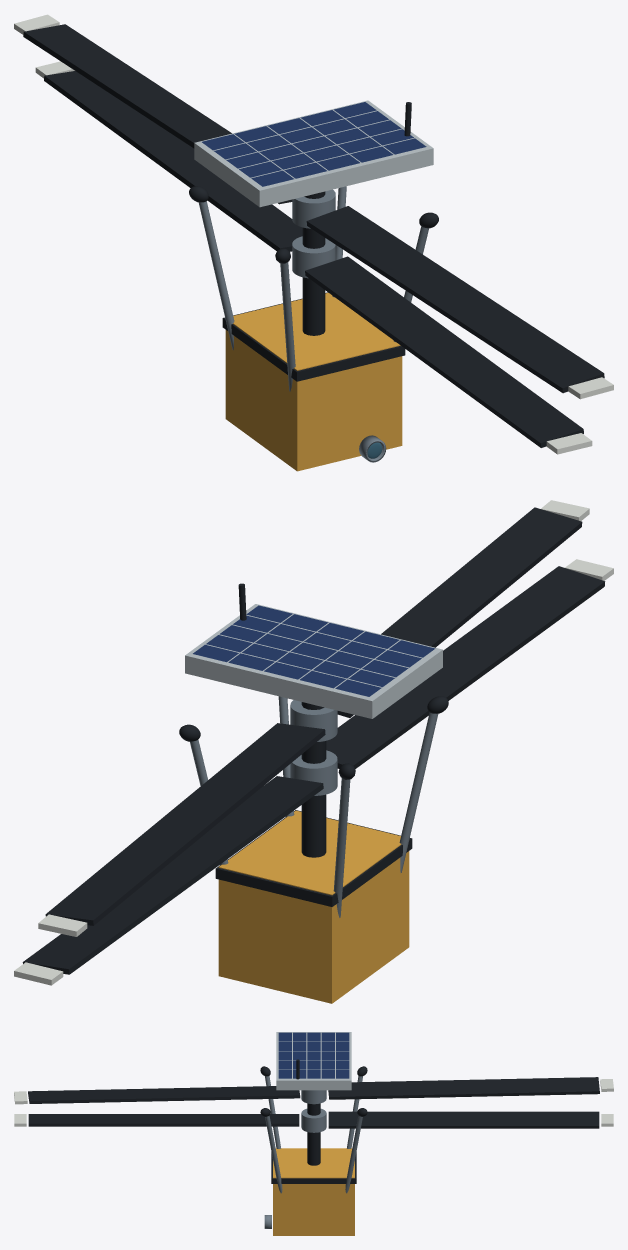
Rendered from ingenuity_stowed.glb.
3 views of the same model, one above another, from view 1: azimuth 30°, elevation 25°; view 2: azimuth 150°, elevation 25°; view 3: azimuth 270°, elevation 25° (orthographic). The views are drawn at different scales.
Visible parts, largest first — view 1: ingenuity.electronics.mesh_Gold_thermal_insulation, ingenuity.rotor_02.blade_b.mesh_Carbon_composite, ingenuity.rotor_01.blade_b.mesh_Carbon_composite, ingenuity.solar_panel.mesh_Indigo_solar_cells, ingenuity.rotor_01.blade_a.mesh_Carbon_composite, ingenuity.rotor_02.blade_a.mesh_Carbon_composite, ingenuity.solar_panel.mesh_Satin_aluminum, ingenuity.electronics.mesh_Carbon_composite, ingenuity.mesh_Carbon_composite, ingenuity.leg_03.mesh_Machined_steel, ingenuity.rotor_01.mesh_Machined_steel, ingenuity.rotor_02.mesh_Machined_steel (+3 smaller); view 2: ingenuity.electronics.mesh_Gold_thermal_insulation, ingenuity.rotor_02.blade_a.mesh_Carbon_composite, ingenuity.rotor_01.blade_b.mesh_Carbon_composite, ingenuity.solar_panel.mesh_Indigo_solar_cells, ingenuity.rotor_01.blade_a.mesh_Carbon_composite, ingenuity.rotor_02.blade_b.mesh_Carbon_composite, ingenuity.solar_panel.mesh_Satin_aluminum, ingenuity.electronics.mesh_Carbon_composite, ingenuity.mesh_Carbon_composite, ingenuity.leg_04.mesh_Machined_steel, ingenuity.rotor_01.mesh_Machined_steel, ingenuity.leg_03.mesh_Machined_steel (+3 smaller); view 3: ingenuity.electronics.mesh_Gold_thermal_insulation, ingenuity.rotor_01.blade_a.mesh_Carbon_composite, ingenuity.rotor_02.blade_a.mesh_Carbon_composite, ingenuity.rotor_02.blade_b.mesh_Carbon_composite, ingenuity.rotor_01.blade_b.mesh_Carbon_composite, ingenuity.solar_panel.mesh_Indigo_solar_cells, ingenuity.solar_panel.mesh_Satin_aluminum, ingenuity.mesh_Carbon_composite, ingenuity.electronics.mesh_Carbon_composite, ingenuity.rotor_01.mesh_Machined_steel, ingenuity.leg_01.mesh_Machined_steel, ingenuity.leg_02.mesh_Machined_steel (+1 smaller).
Boxes of the visible parts, box(x1,y1,x2,y2) form: ingenuity.electronics.mesh_Gold_thermal_insulation: box(225, 292, 402, 471); ingenuity.rotor_02.blade_b.mesh_Carbon_composite: box(306, 206, 604, 393); ingenuity.rotor_01.blade_b.mesh_Carbon_composite: box(305, 256, 583, 447); ingenuity.solar_panel.mesh_Indigo_solar_cells: box(202, 102, 426, 186); ingenuity.rotor_01.blade_a.mesh_Carbon_composite: box(44, 71, 302, 251); ingenuity.rotor_02.blade_a.mesh_Carbon_composite: box(23, 24, 292, 204); ingenuity.solar_panel.mesh_Satin_aluminum: box(194, 100, 433, 207); ingenuity.electronics.mesh_Carbon_composite: box(222, 292, 405, 381); ingenuity.mesh_Carbon_composite: box(302, 191, 325, 335); ingenuity.leg_03.mesh_Machined_steel: box(198, 201, 234, 350); ingenuity.rotor_01.mesh_Machined_steel: box(292, 236, 335, 278); ingenuity.rotor_02.mesh_Machined_steel: box(292, 189, 335, 228); ingenuity.electronics.mesh_Gold_thermal_insulation: box(218, 810, 409, 1003); ingenuity.rotor_02.blade_a.mesh_Carbon_composite: box(45, 723, 325, 925); ingenuity.rotor_01.blade_b.mesh_Carbon_composite: box(326, 566, 605, 769); ingenuity.solar_panel.mesh_Indigo_solar_cells: box(193, 605, 435, 696); ingenuity.rotor_01.blade_a.mesh_Carbon_composite: box(22, 776, 323, 974); ingenuity.rotor_02.blade_b.mesh_Carbon_composite: box(337, 507, 582, 717); ingenuity.solar_panel.mesh_Satin_aluminum: box(185, 604, 442, 718); ingenuity.electronics.mesh_Carbon_composite: box(215, 810, 412, 906); ingenuity.mesh_Carbon_composite: box(301, 702, 326, 857); ingenuity.leg_04.mesh_Machined_steel: box(399, 712, 438, 872); ingenuity.rotor_01.mesh_Machined_steel: box(290, 750, 337, 795); ingenuity.leg_03.mesh_Machined_steel: box(333, 778, 350, 917); ingenuity.electronics.mesh_Gold_thermal_insulation: box(273, 1148, 354, 1235); ingenuity.rotor_01.blade_a.mesh_Carbon_composite: box(328, 1111, 599, 1128); ingenuity.rotor_02.blade_a.mesh_Carbon_composite: box(328, 1077, 599, 1099); ingenuity.rotor_02.blade_b.mesh_Carbon_composite: box(28, 1086, 300, 1103); ingenuity.rotor_01.blade_b.mesh_Carbon_composite: box(28, 1114, 299, 1126); ingenuity.solar_panel.mesh_Indigo_solar_cells: box(278, 1032, 349, 1078); ingenuity.solar_panel.mesh_Satin_aluminum: box(276, 1032, 351, 1090); ingenuity.mesh_Carbon_composite: box(307, 1103, 320, 1165); ingenuity.electronics.mesh_Carbon_composite: box(271, 1152, 356, 1183); ingenuity.rotor_01.mesh_Machined_steel: box(301, 1108, 326, 1132); ingenuity.leg_01.mesh_Machined_steel: box(265, 1115, 282, 1193); ingenuity.leg_02.mesh_Machined_steel: box(345, 1115, 362, 1193).
Size of the model in its own units: 0.23 by 0.4082 by 1.2.
